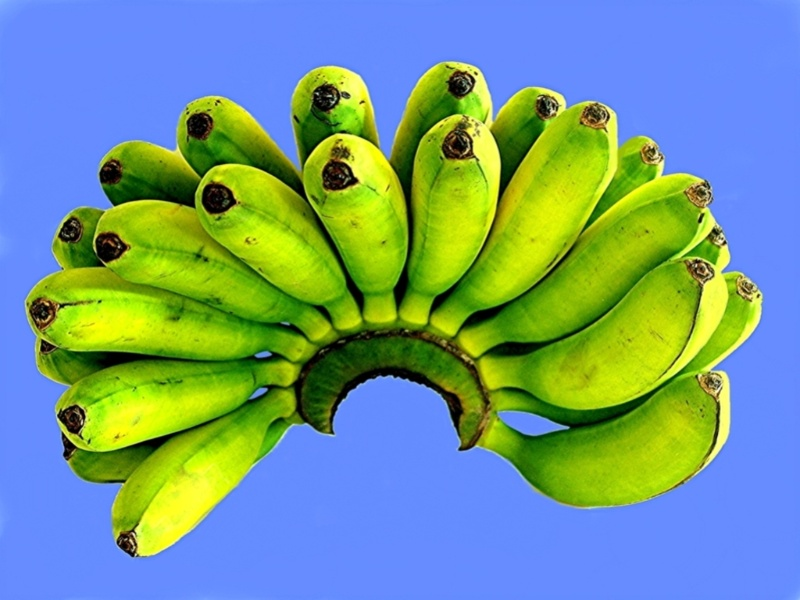banana: (21, 60, 762, 562)
